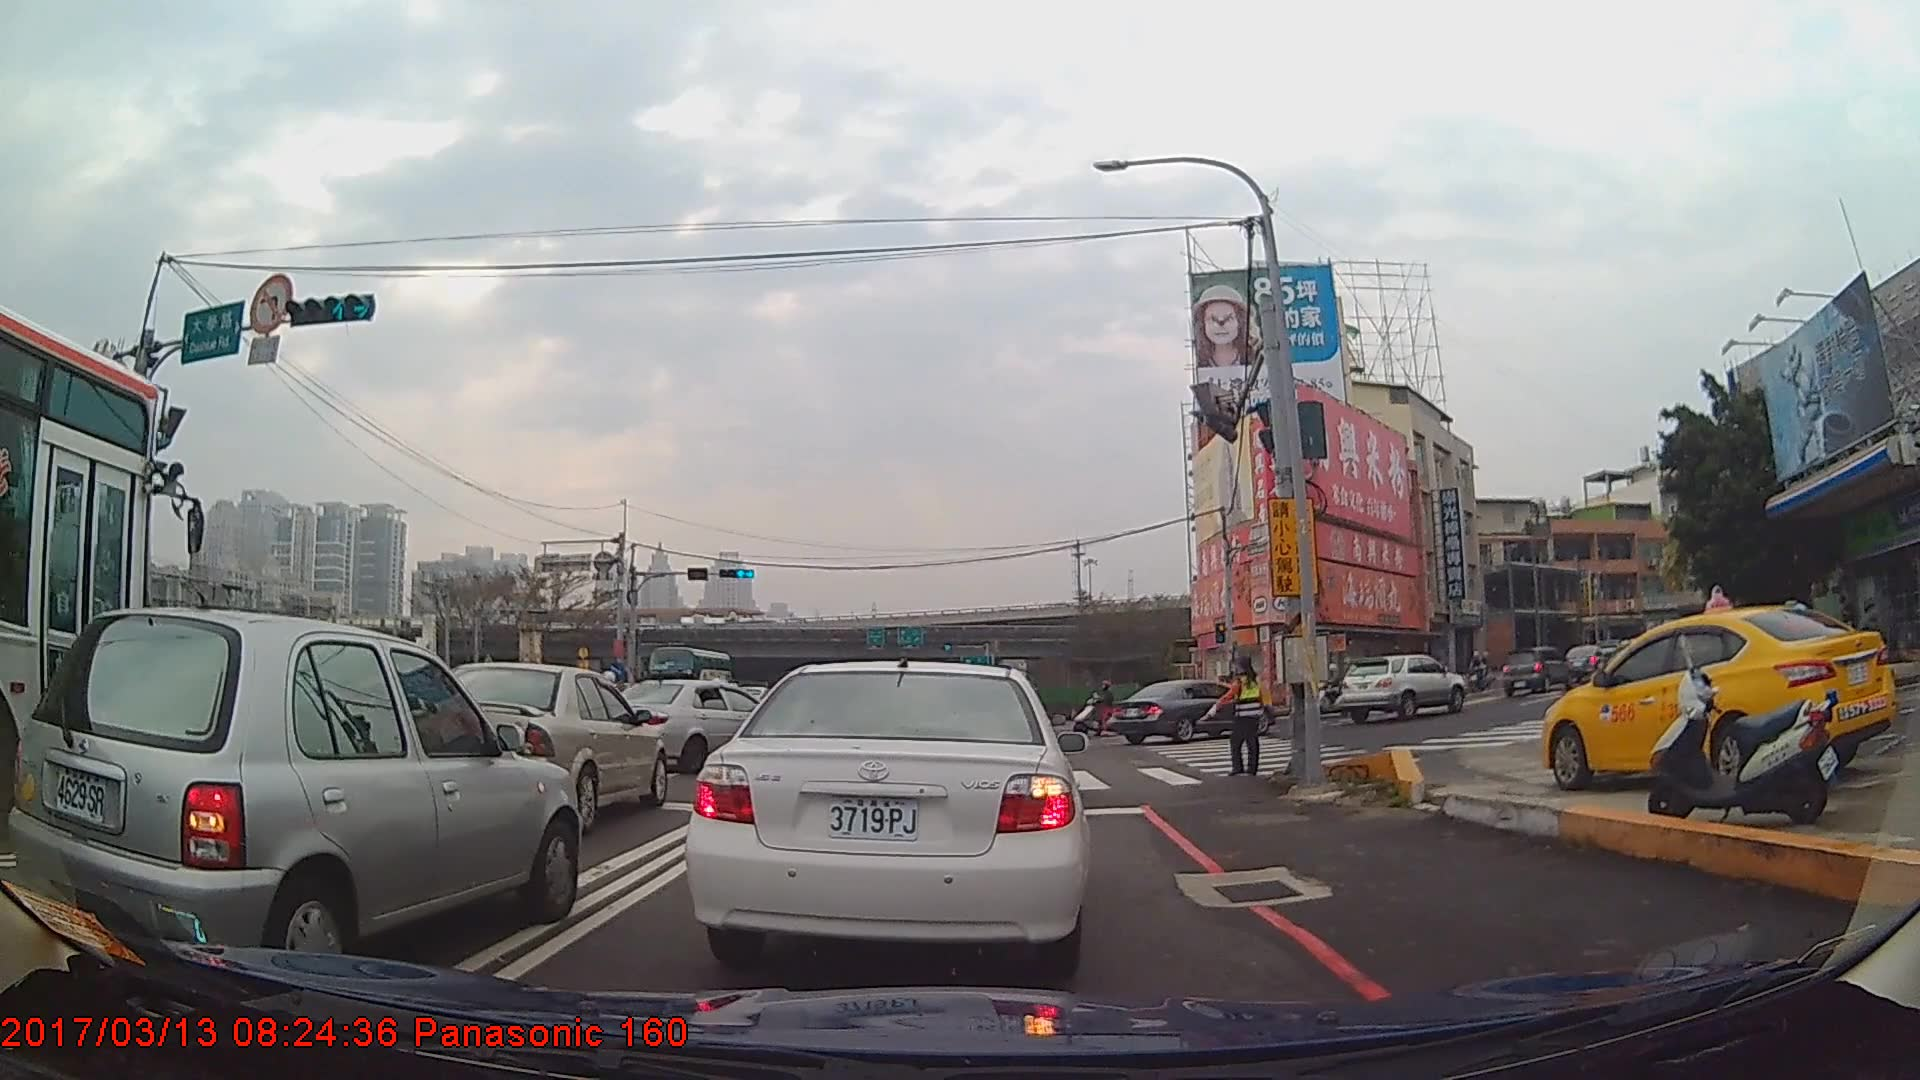pedestrian: (1202, 657, 1266, 778)
rider: (1075, 681, 1136, 739), (1856, 597, 1884, 698), (1313, 663, 1349, 716)
vehicle: (8, 605, 583, 982), (685, 653, 1090, 968), (0, 297, 153, 841), (1541, 603, 1896, 793), (419, 660, 666, 836), (606, 678, 790, 773), (1109, 678, 1275, 746), (1338, 651, 1463, 721), (646, 645, 731, 704), (1499, 646, 1572, 695)
